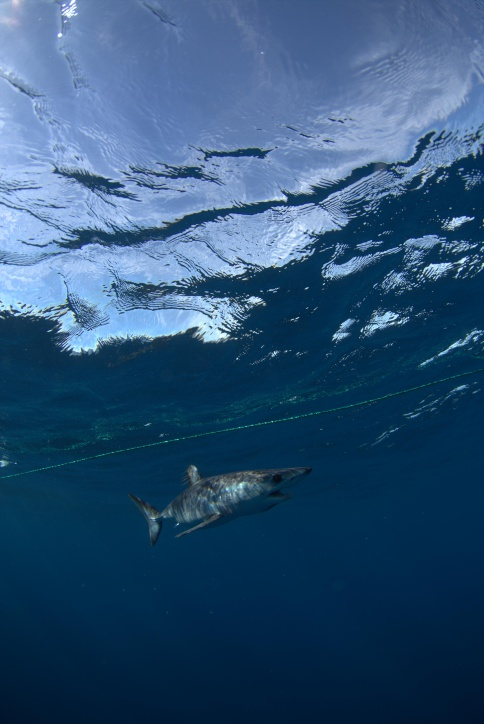Mako: (108, 442, 326, 565)
